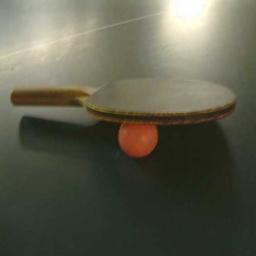orange: (119, 117, 158, 157)
